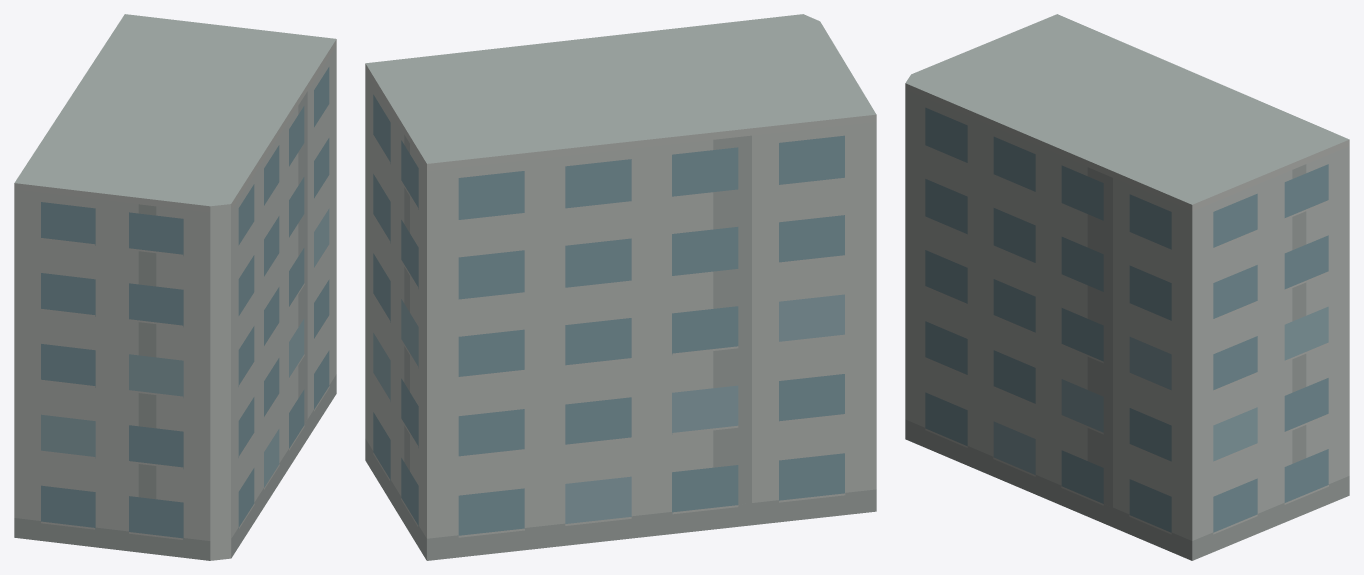
The model's file is survey-upis-32892885.glb.
The picture shows the model from 3 angles, left to right: view 1: azimuth 30°, elevation 25°; view 2: azimuth 150°, elevation 25°; view 3: azimuth 270°, elevation 25°; orthographic projection. The views are drawn at different scales.
Visible parts, largest first — view 1: survey-upis-32892885.tmp; view 2: survey-upis-32892885.tmp; view 3: survey-upis-32892885.tmp.
Boxes of the visible parts, x1,y1,x2,y2 form: survey-upis-32892885.tmp: [14, 14, 336, 560]; survey-upis-32892885.tmp: [365, 14, 876, 560]; survey-upis-32892885.tmp: [905, 14, 1349, 560].
Bounding box in the file's own units: 15.18 × 13.2 × 14.93.
